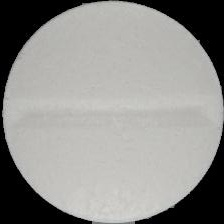0591-0460: (0, 0, 224, 224)
